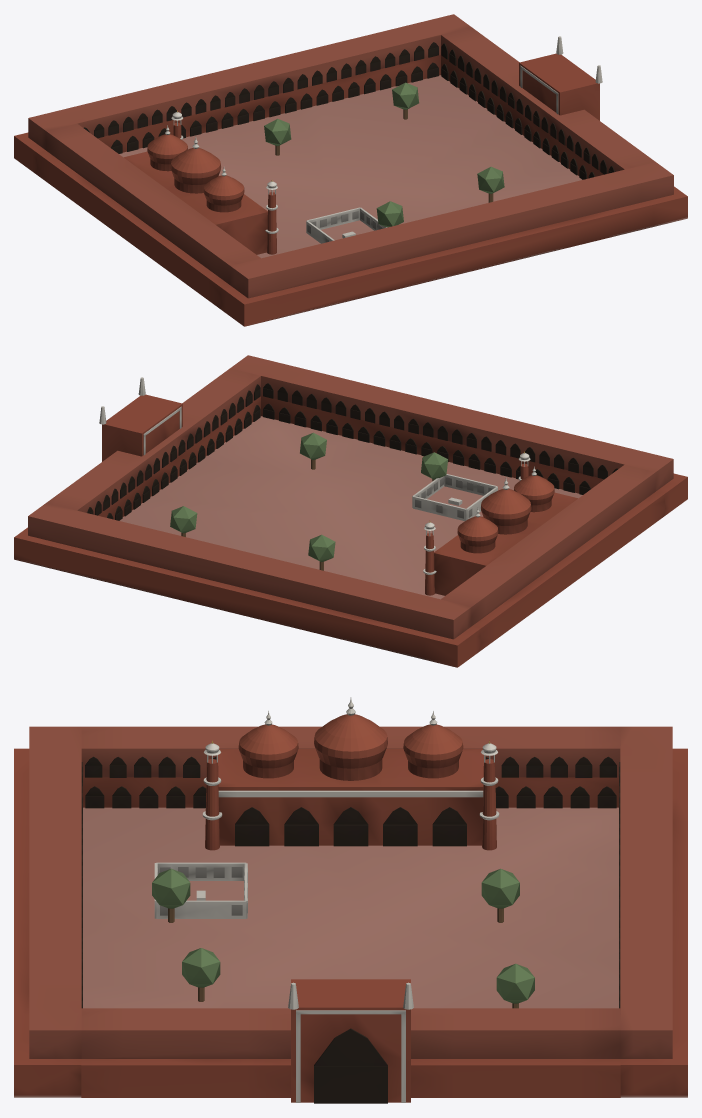
The model's file is ghaziuddin-madrasa.glb.
3 renders of one model, top to bottom at view 1: azimuth 30°, elevation 25°; view 2: azimuth 150°, elevation 25°; view 3: azimuth 270°, elevation 25°, orthographic. The views are drawn at different scales.
Visible parts, largest first — view 1: p0_cells, p1_upper, p3_domes, p2_mosque; view 2: p0_cells, p1_upper, p2_mosque, p3_domes; view 3: p0_cells, p1_upper, p2_mosque, p3_domes.
Part boxes in pixels (<box>): p0_cells: <box>14,54,687,326</box>; p1_upper: <box>28,14,673,298</box>; p3_domes: <box>147,110,278,254</box>; p2_mosque: <box>124,151,387,254</box>; p0_cells: <box>14,395,687,667</box>; p1_upper: <box>28,355,673,639</box>; p2_mosque: <box>412,474,577,595</box>; p3_domes: <box>423,451,554,595</box>; p0_cells: <box>14,748,687,1097</box>; p1_upper: <box>29,726,672,1103</box>; p2_mosque: <box>154,749,485,918</box>; p3_domes: <box>202,697,499,850</box>.
Bounding box in the file's own units: 102 × 19.54 × 90.
